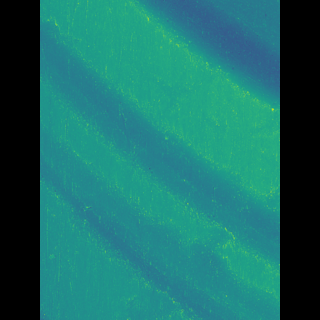Loch: (70, 21, 250, 320), (134, 0, 249, 113)
